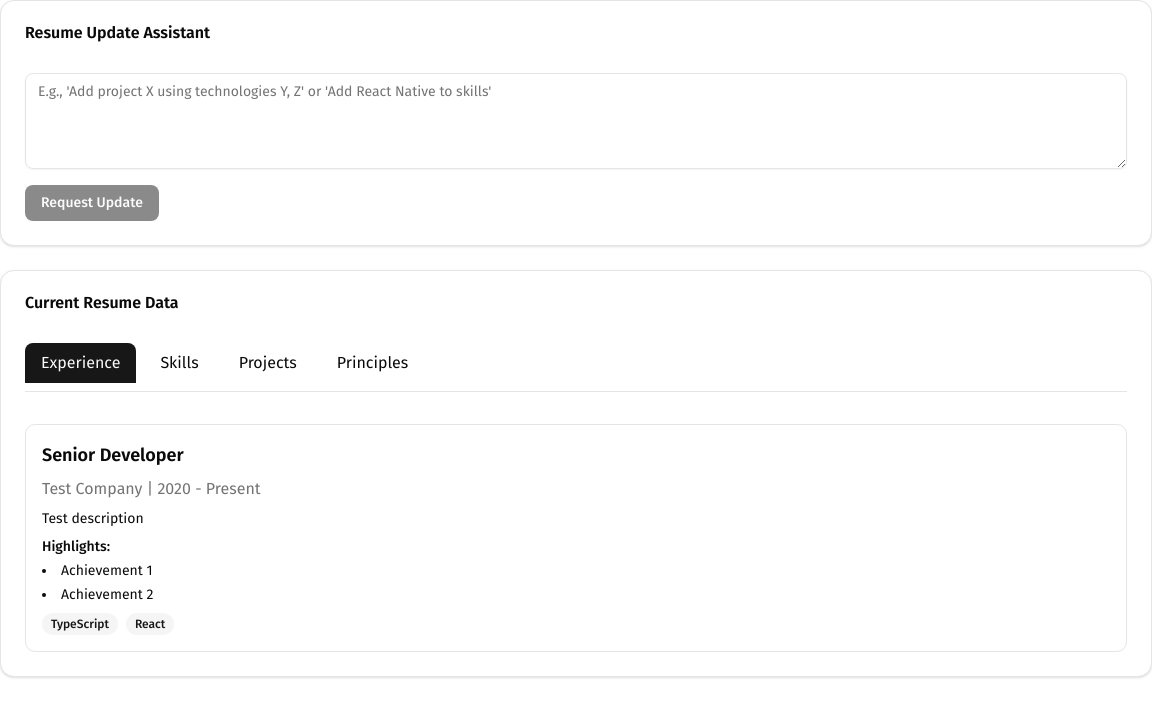
Test case: ResumeUpdater Component - T017 › Proposed Changes Display › should clear proposed changes when Cancel clicked
In the text box with placeholder "Add project X using technologies Y, Z": (576, 121) x1=25 y1=73 x2=1127 y2=169, type "Add Python"
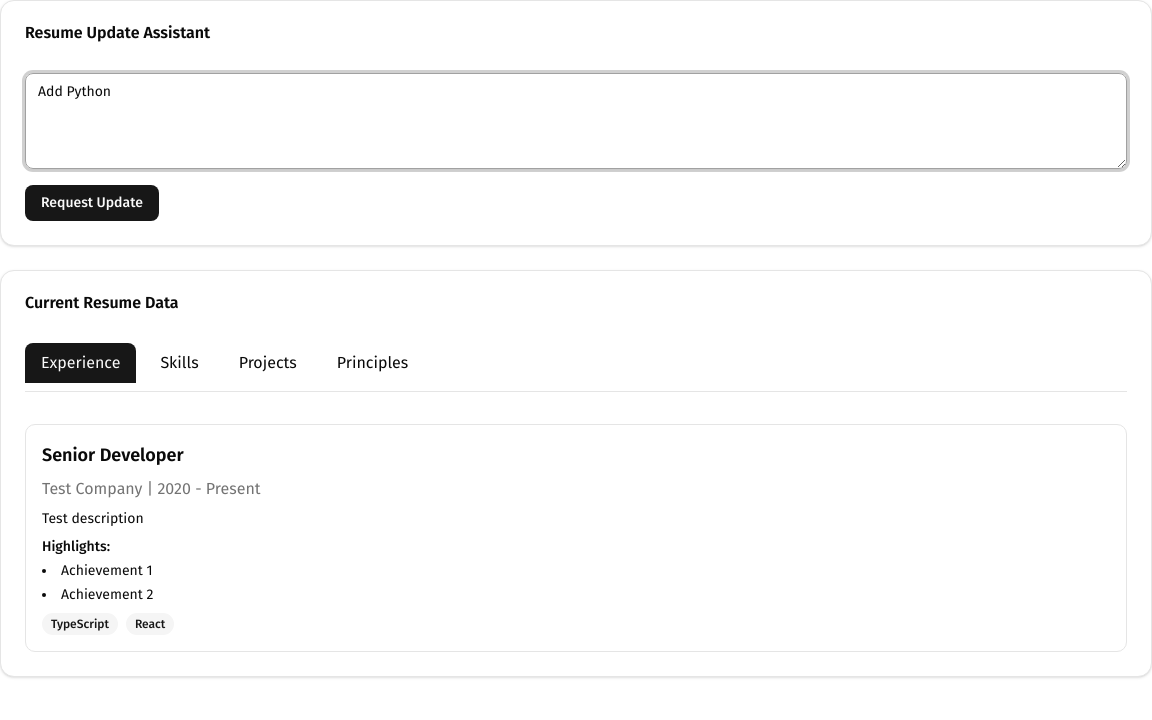
Click the button "Request Update": (92, 203) x1=25 y1=185 x2=159 y2=221
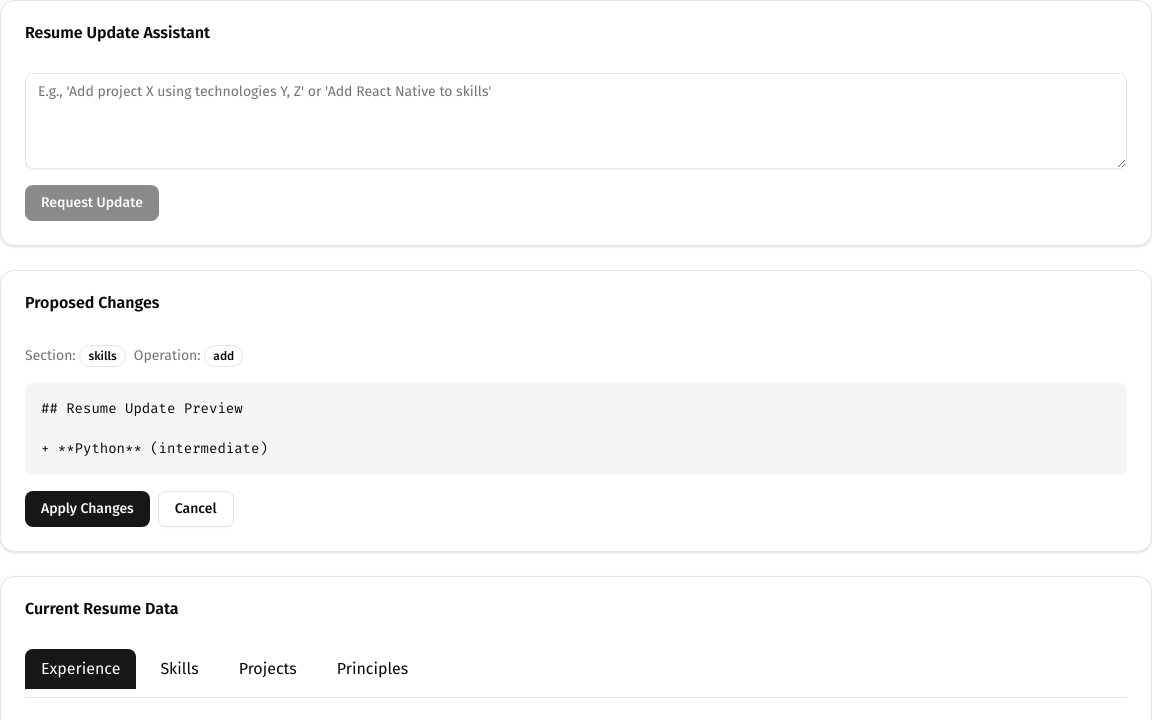
Expected: the text "Proposed Changes" is shown, x1=25 y1=293 x2=159 y2=312
Click the button "Cancel": (196, 509) x1=158 y1=491 x2=234 y2=527
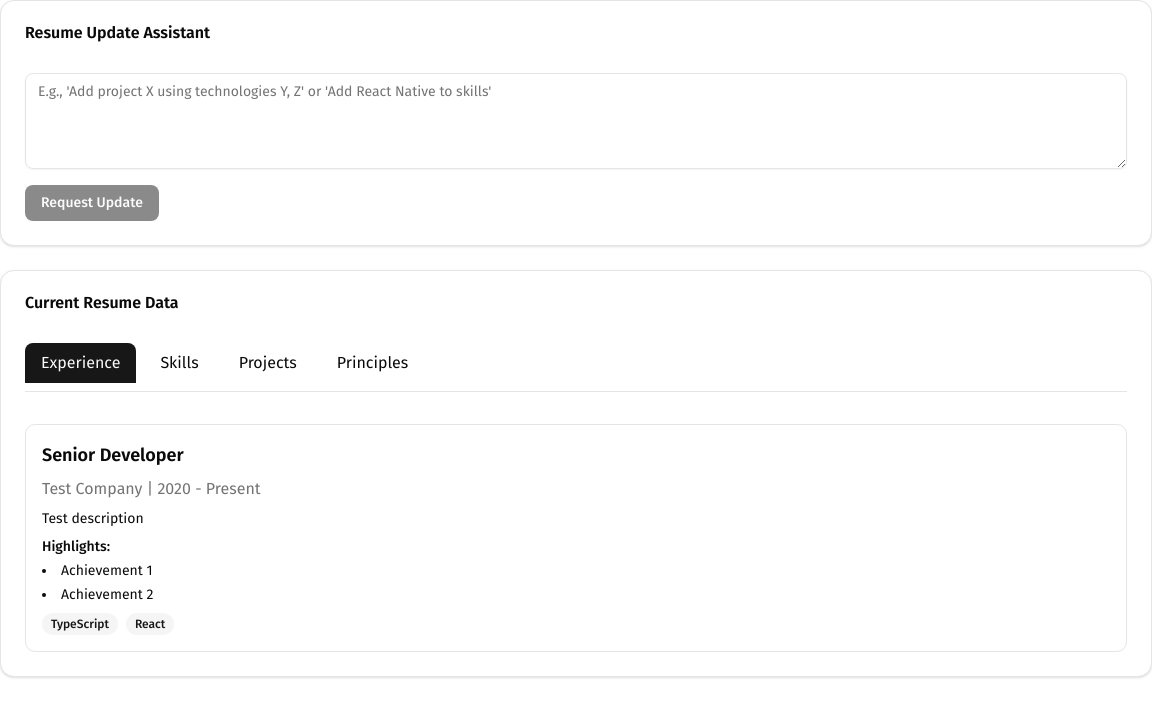
Expected: the text "Proposed Changes" is not shown
